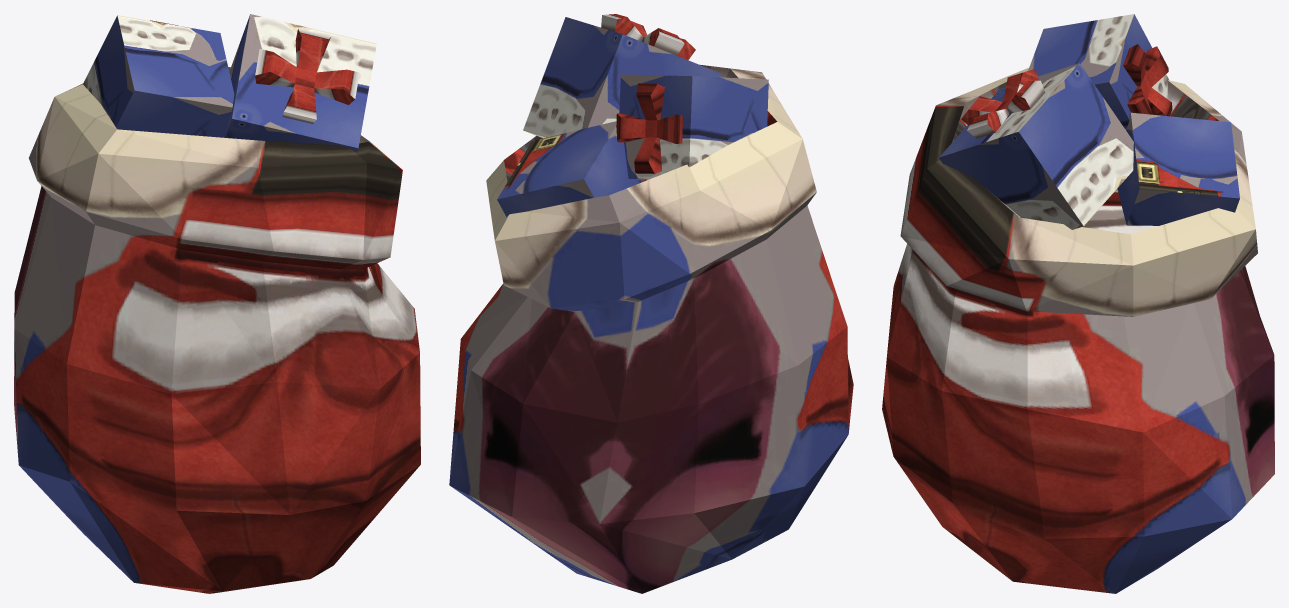
File: Whale_santaBag.obj
3 views of the same model, side by side, from view 1: azimuth 30°, elevation 25°; view 2: azimuth 150°, elevation 25°; view 3: azimuth 270°, elevation 25° (orthographic). The views are drawn at different scales.
Parts seen in each view (by area): view 1: Whale_santaBag_tri; view 2: Whale_santaBag_tri; view 3: Whale_santaBag_tri.
Boxes of the visible parts, x1,y1,x2,y2 form: Whale_santaBag_tri: (14,14,420,593); Whale_santaBag_tri: (449,14,853,593); Whale_santaBag_tri: (882,14,1274,593).
Size of the model in its own units: 0.7917 by 1.23 by 0.8311.
1 material, 1 textured.
